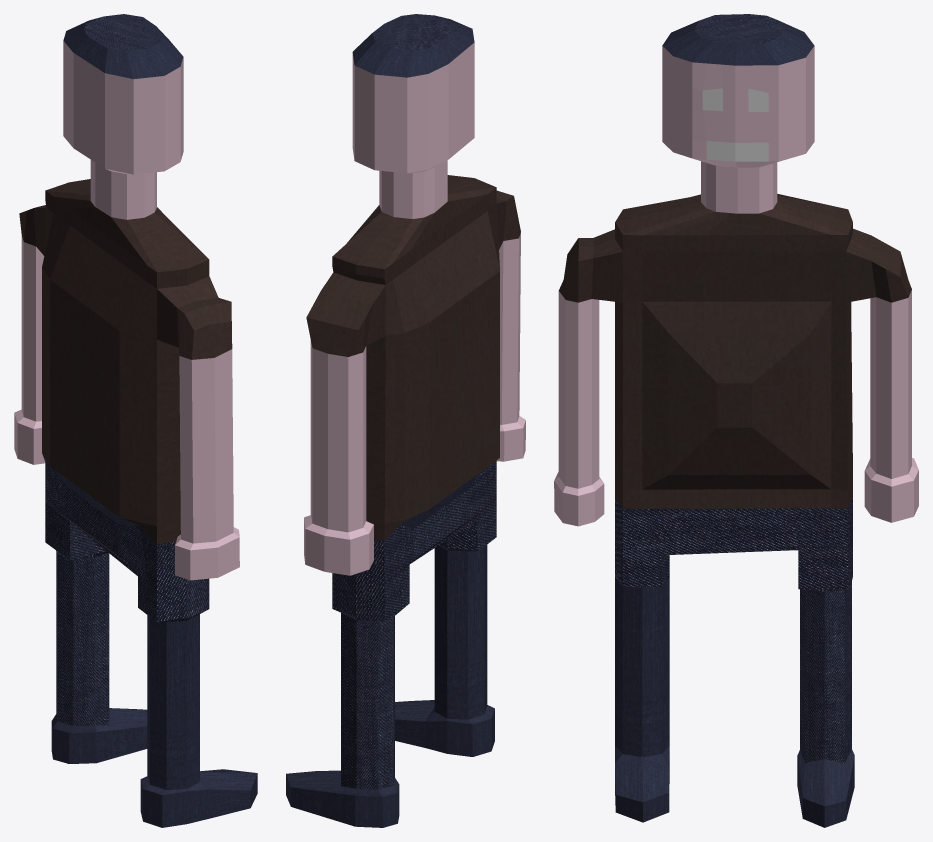
File: Spieler.fbx
3 views of the same model, side by side, from view 1: azimuth 30°, elevation 25°; view 2: azimuth 150°, elevation 25°; view 3: azimuth 270°, elevation 25° (orthographic).
Visible parts, largest first — view 1: Cylinder; view 2: Cylinder; view 3: Cylinder.
Boxes of the visible parts, box(x1,y1,x2,y2) form: Cylinder: box(14, 14, 257, 827); Cylinder: box(286, 14, 525, 827); Cylinder: box(554, 14, 918, 827).
Bounding box in the file's own units: 557 × 3053 × 1333.
